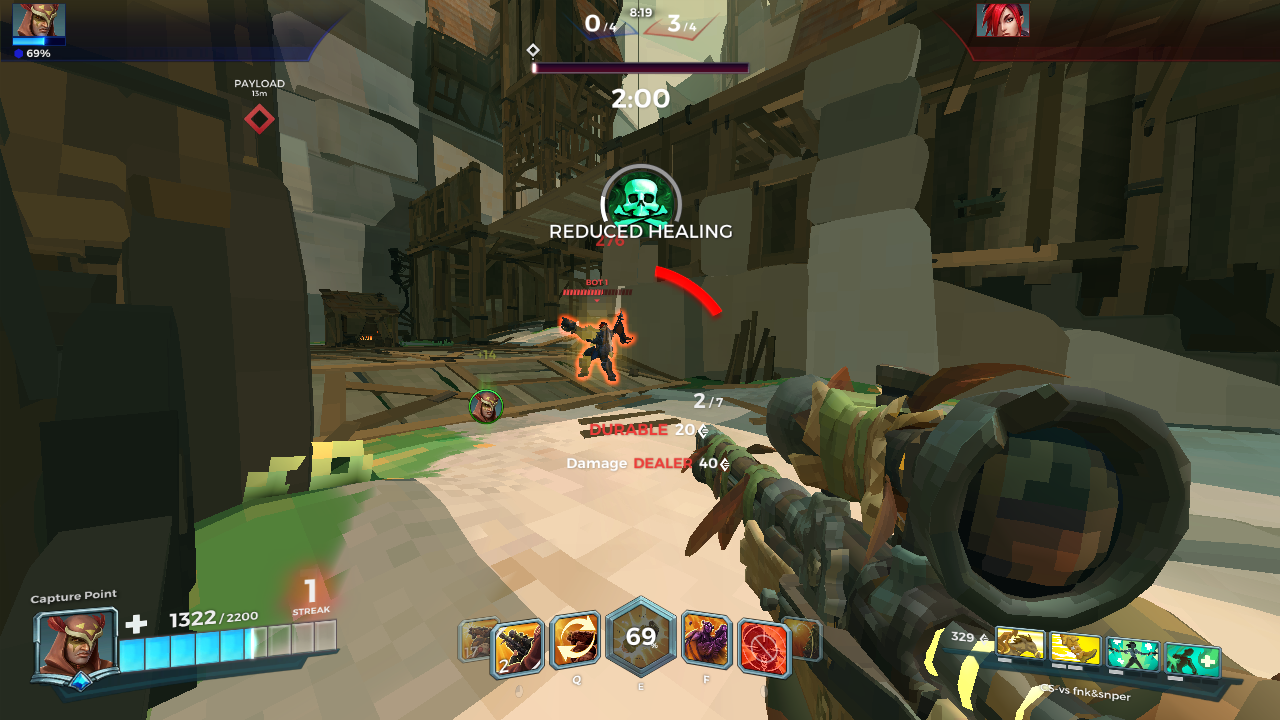model: (556, 313, 627, 391)
